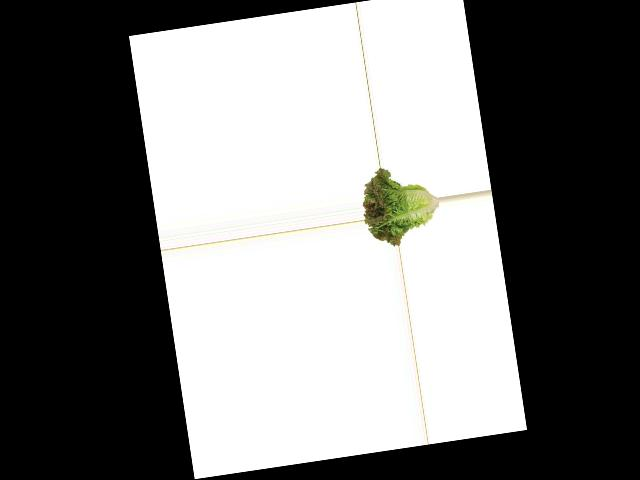lettuce: (358, 160, 444, 249)
